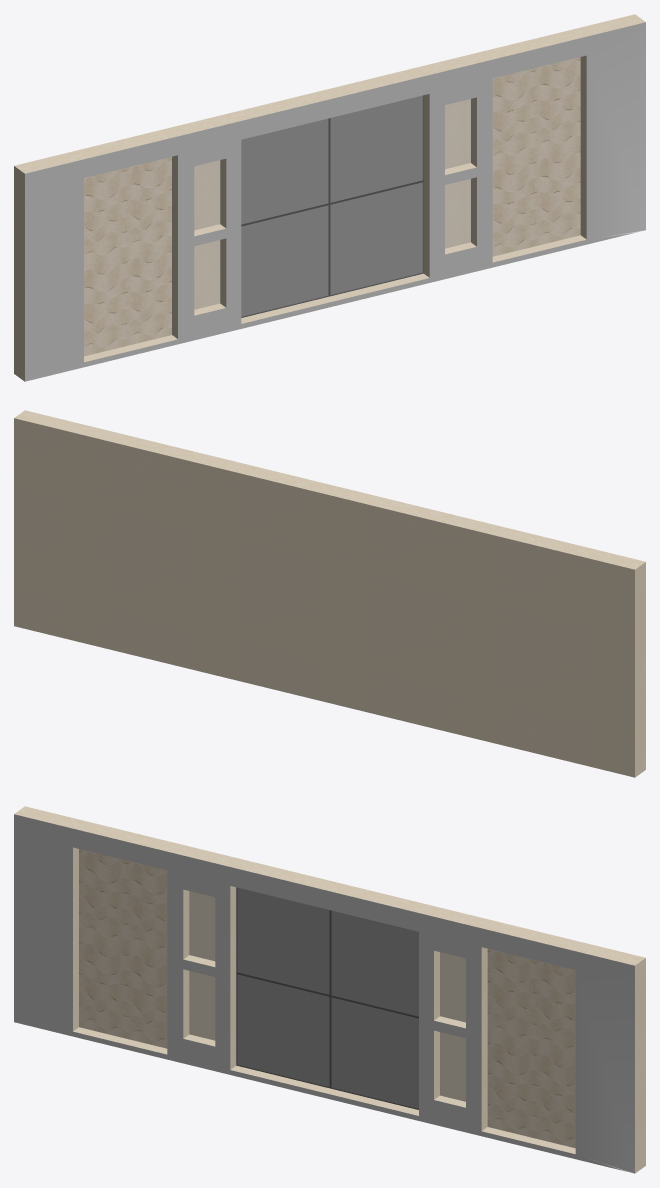
Rendered from InteriorWall2B.FBX.
3 views of the same model, one above another, from view 1: azimuth 30°, elevation 25°; view 2: azimuth 150°, elevation 25°; view 3: azimuth 330°, elevation 25° (orthographic).
Parts seen in each view (by area): view 1: InteriorWall2B; view 2: InteriorWall2B; view 3: InteriorWall2B.
Boxes of the visible parts, left/top/right/bottom form: InteriorWall2B: left=14, top=14, right=645, bottom=381; InteriorWall2B: left=14, top=410, right=645, bottom=777; InteriorWall2B: left=14, top=806, right=645, bottom=1173.
Bounding box in the file's own units: 467 × 149 × 14.17.
